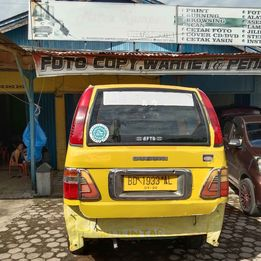plate: (118, 174, 186, 195)
